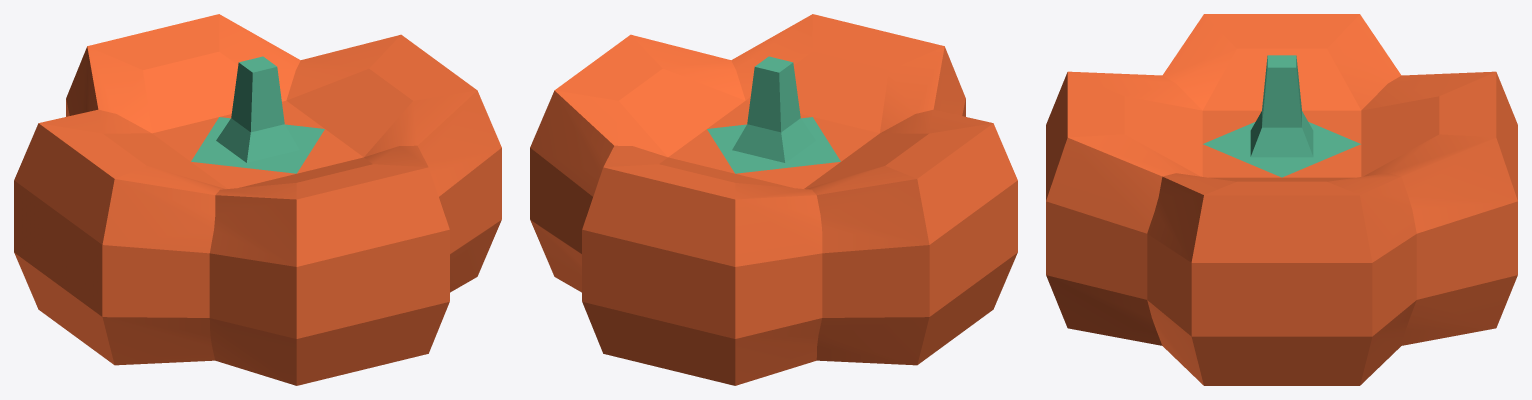
File: pumpkin.dae
3 renders of one model, left to right at view 1: azimuth 30°, elevation 25°; view 2: azimuth 150°, elevation 25°; view 3: azimuth 270°, elevation 25°, orthographic. The views are drawn at different scales.
Parts seen in each view (by area): view 1: pumpkin; view 2: pumpkin; view 3: pumpkin.
Boxes of the visible parts, x1,y1,x2,y2 form: pumpkin: [14, 14, 501, 385]; pumpkin: [530, 14, 1017, 385]; pumpkin: [1046, 14, 1517, 385].
Bounding box in the file's own units: 0.4189 × 0.2291 × 0.4189.
